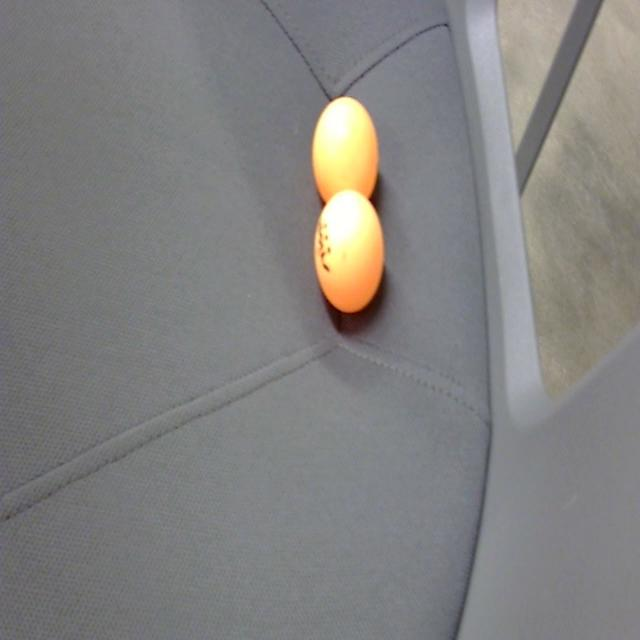ball: (311, 187, 387, 319), (312, 92, 381, 206)
